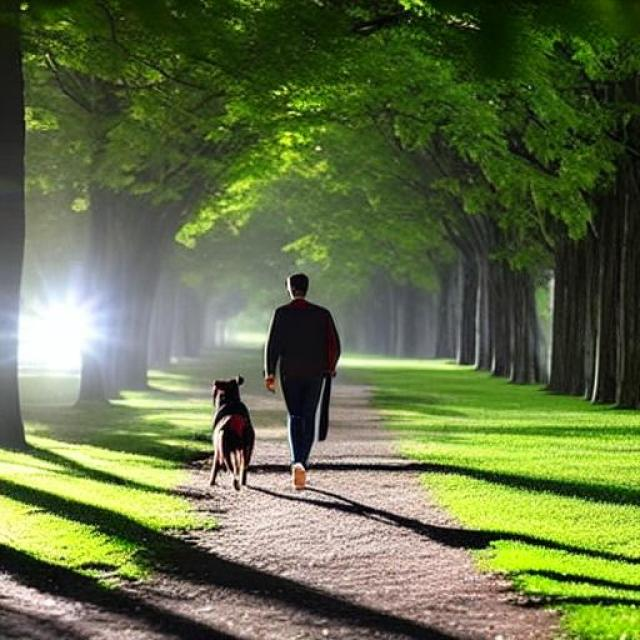Unleashed_Dog: (207, 371, 325, 493)
